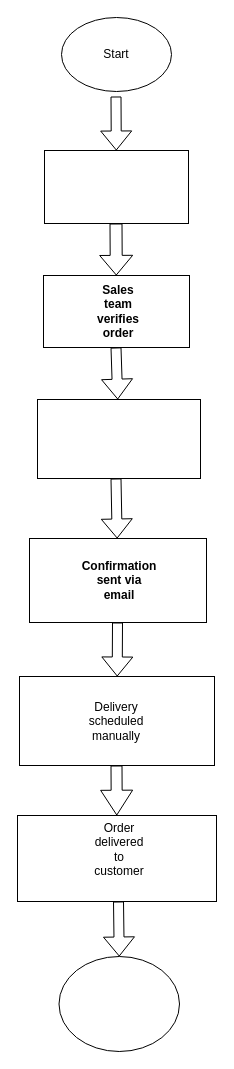
This 234x1069 diagram has some shape labels left out. The box of each missing label's shape, as (x1, y1, x2, y2) in pixels:
Customer places order: (44, 150, 188, 224)
End: (58, 956, 180, 1052)
Inventory checked manually in Excel: (36, 398, 200, 478)
